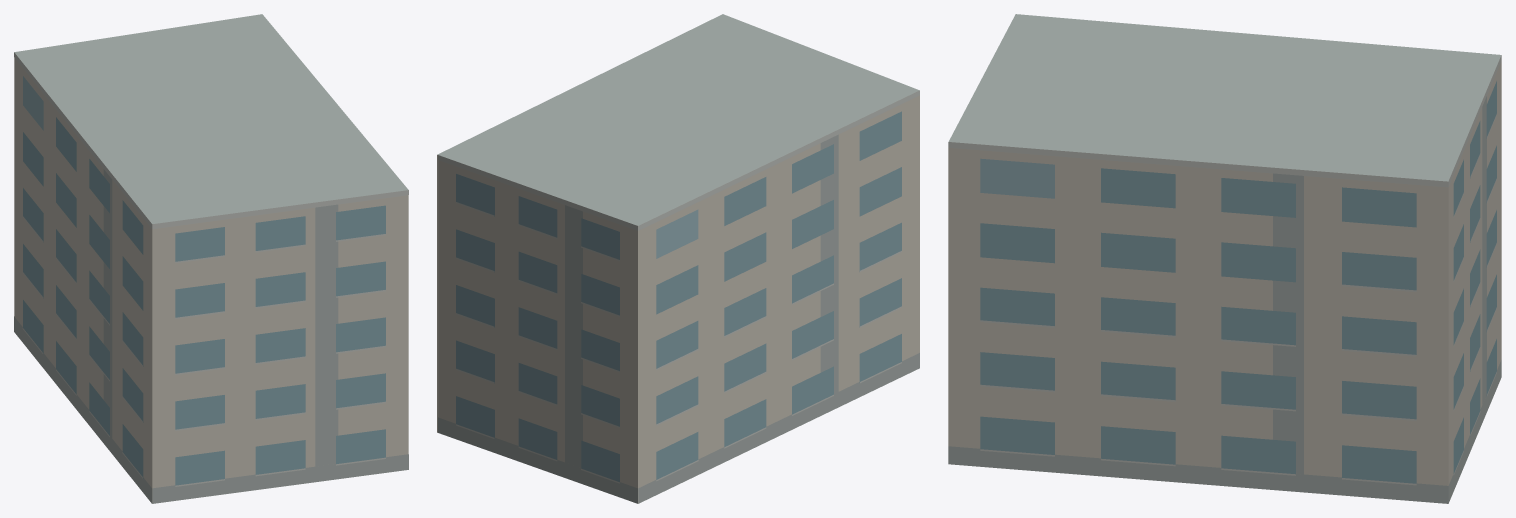
File: survey-upis-32820025.glb
3 renders of one model, left to right at view 1: azimuth 30°, elevation 25°; view 2: azimuth 150°, elevation 25°; view 3: azimuth 270°, elevation 25°, orthographic. The views are drawn at different scales.
Visible parts, largest first — view 1: survey-upis-32820025.tmp; view 2: survey-upis-32820025.tmp; view 3: survey-upis-32820025.tmp.
Part boxes in pixels (x1,y1,x2,y2): survey-upis-32820025.tmp: [14, 14, 408, 503]; survey-upis-32820025.tmp: [437, 14, 919, 503]; survey-upis-32820025.tmp: [948, 14, 1501, 503].
Size of the model in its own units: 15.06 by 13.5 by 21.
